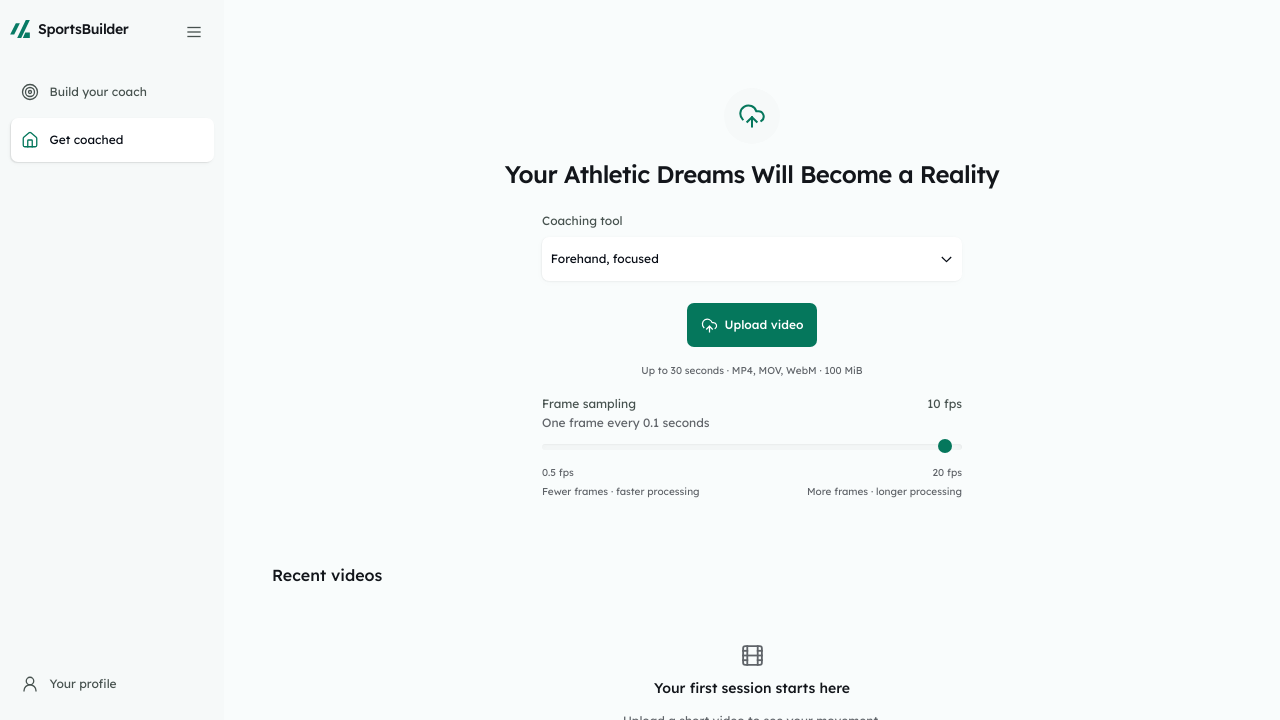
Test case: saved workspace loading › collapses to LearnUnlock’s floating hamburger and restores navigation without losing the upload draft
Set the slider named "Frame sampling rate" to "0.5" at coordinates (643, 447), box [542,433,962,461]
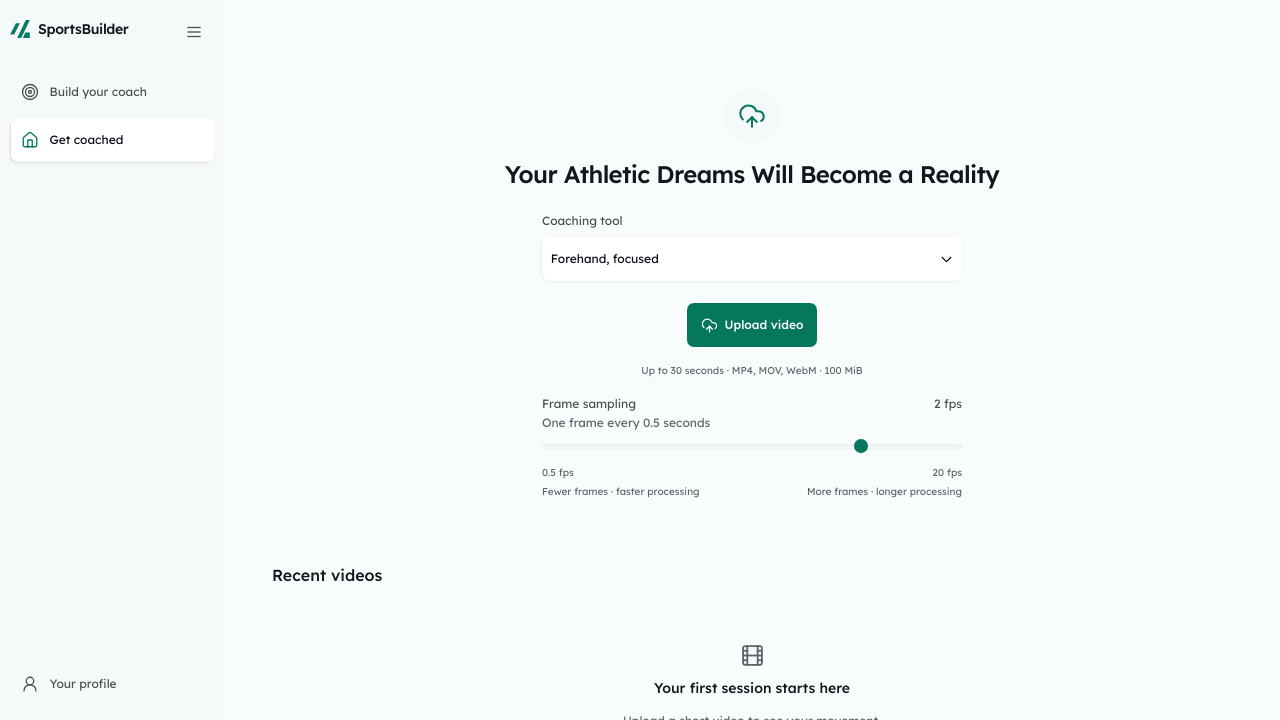
Click the button named "Collapse sidebar" at coordinates (194, 32), box [172,10,216,54]
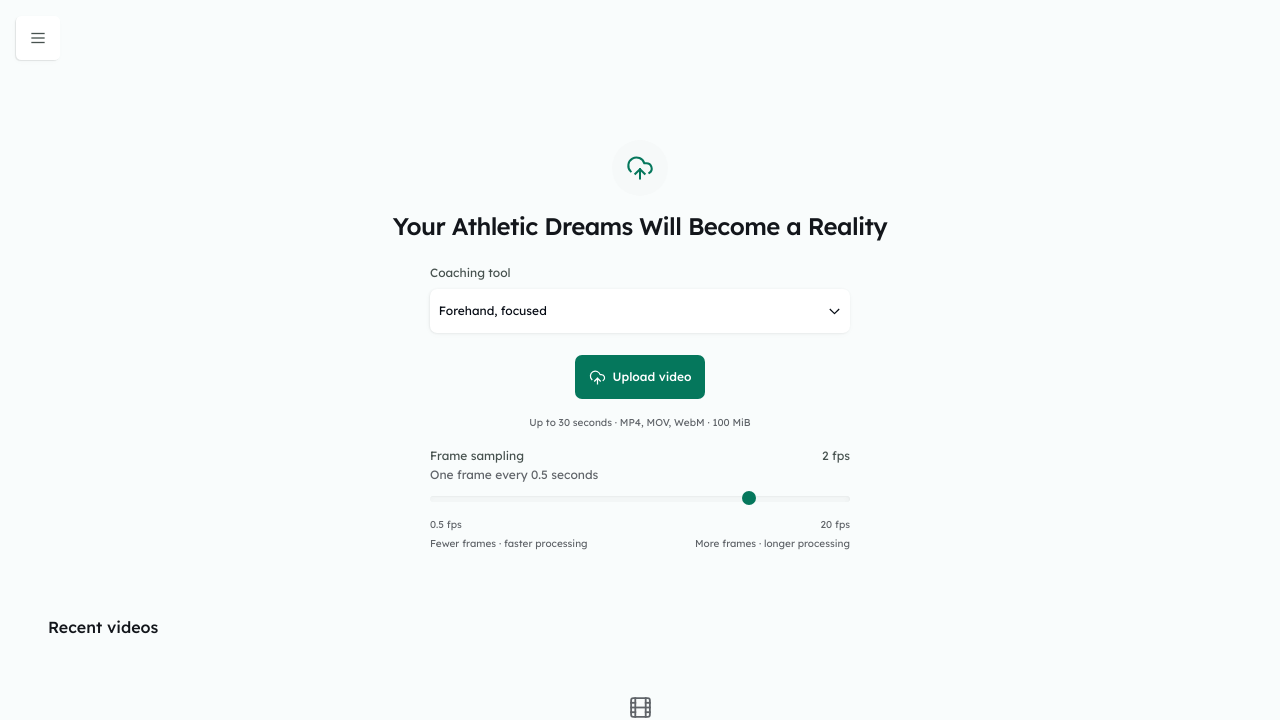
Expected: the button "Upload video" is shown, [574,355,706,399]
Now the button named "Expand sidebar" is collapsed
Click the button named "Expand sidebar" at coordinates (38, 38), box [16,16,60,60]
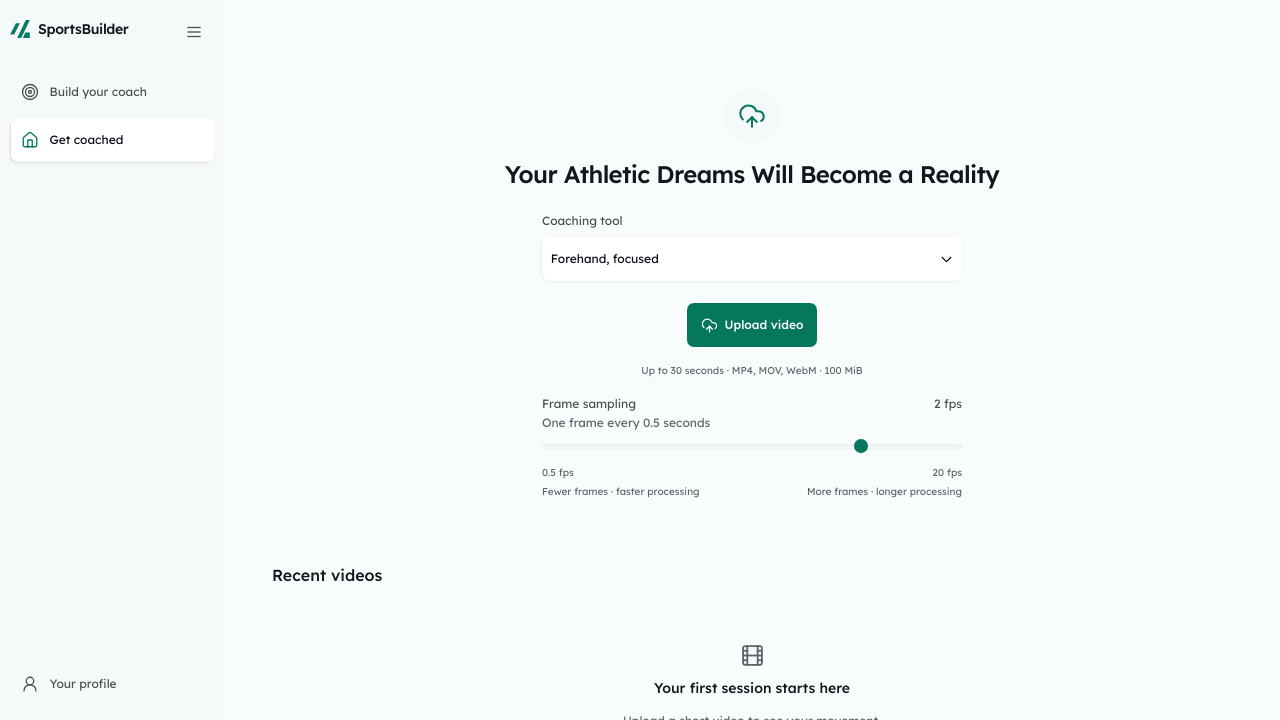
Now the button "Your profile" is shown, box [10,662,214,706]
